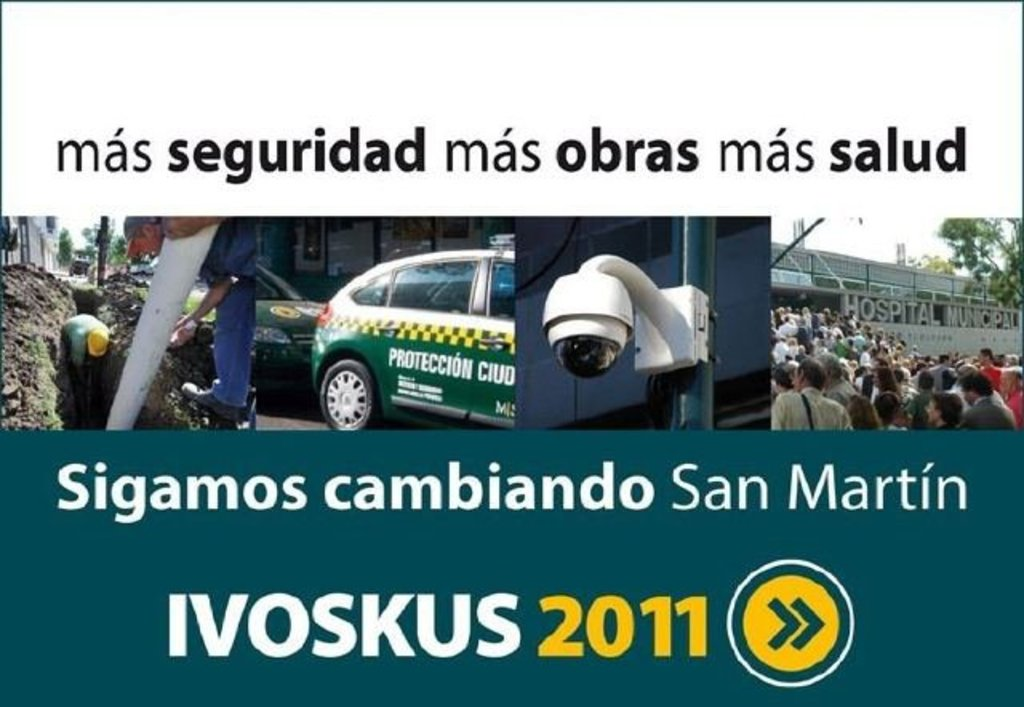Car: (312, 236, 513, 431), (172, 259, 321, 419)
